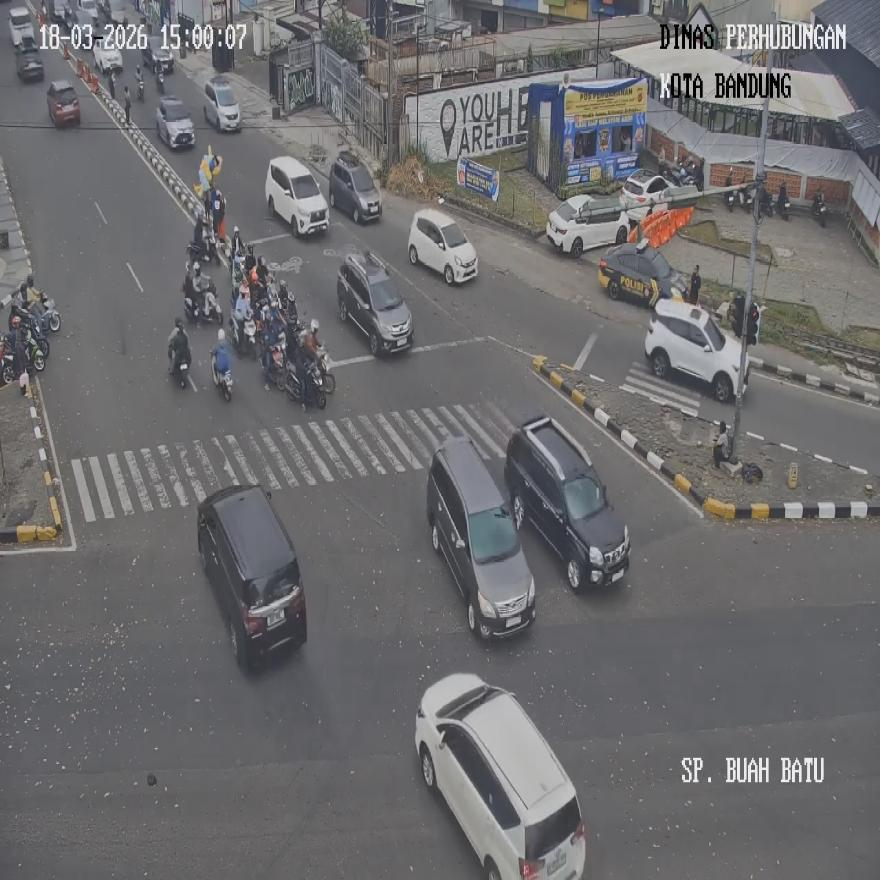Motor: (415, 672, 586, 878), (503, 411, 630, 589), (426, 435, 536, 639), (198, 482, 308, 668), (644, 298, 750, 402), (336, 248, 413, 356), (598, 234, 690, 306), (408, 207, 478, 284), (546, 194, 630, 256), (265, 155, 328, 237), (330, 150, 382, 223), (203, 73, 240, 132), (156, 94, 195, 149)
Truk: (286, 355, 326, 410), (183, 270, 222, 326), (20, 320, 48, 372), (27, 292, 60, 334), (230, 312, 256, 358), (211, 344, 232, 400), (263, 340, 286, 391), (168, 341, 190, 389), (712, 422, 731, 468), (743, 181, 763, 214), (724, 168, 737, 212), (775, 185, 790, 221), (812, 190, 826, 228), (135, 61, 144, 103)
